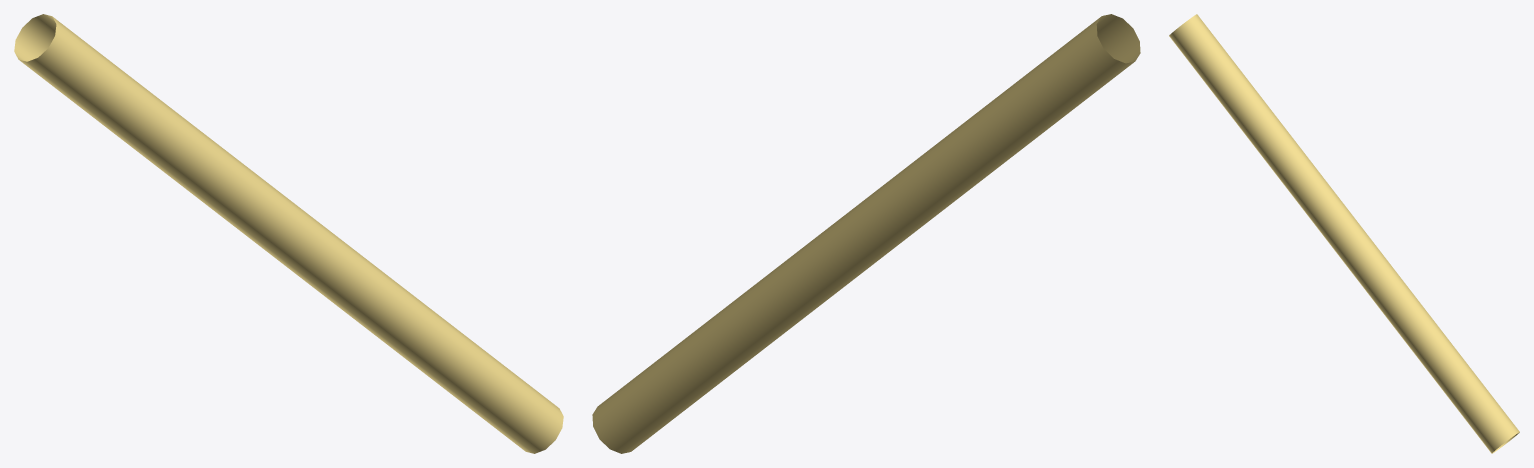
The picture shows the model from 3 angles, left to right: view 1: azimuth 30°, elevation 25°; view 2: azimuth 150°, elevation 25°; view 3: azimuth 330°, elevation 25°; orthographic projection. The views are drawn at different scales.
Visible parts, largest first — view 1: ZA_4c0d357b3344be7f; view 2: ZA_4c0d357b3344be7f; view 3: ZA_4c0d357b3344be7f.
Boxes of the visible parts, bbox=[...] form: ZA_4c0d357b3344be7f: bbox=[14, 14, 563, 453]; ZA_4c0d357b3344be7f: bbox=[592, 14, 1140, 453]; ZA_4c0d357b3344be7f: bbox=[1169, 14, 1519, 453].
Size of the model in its own units: 0.0224 by 0.0218 by 0.00259.
